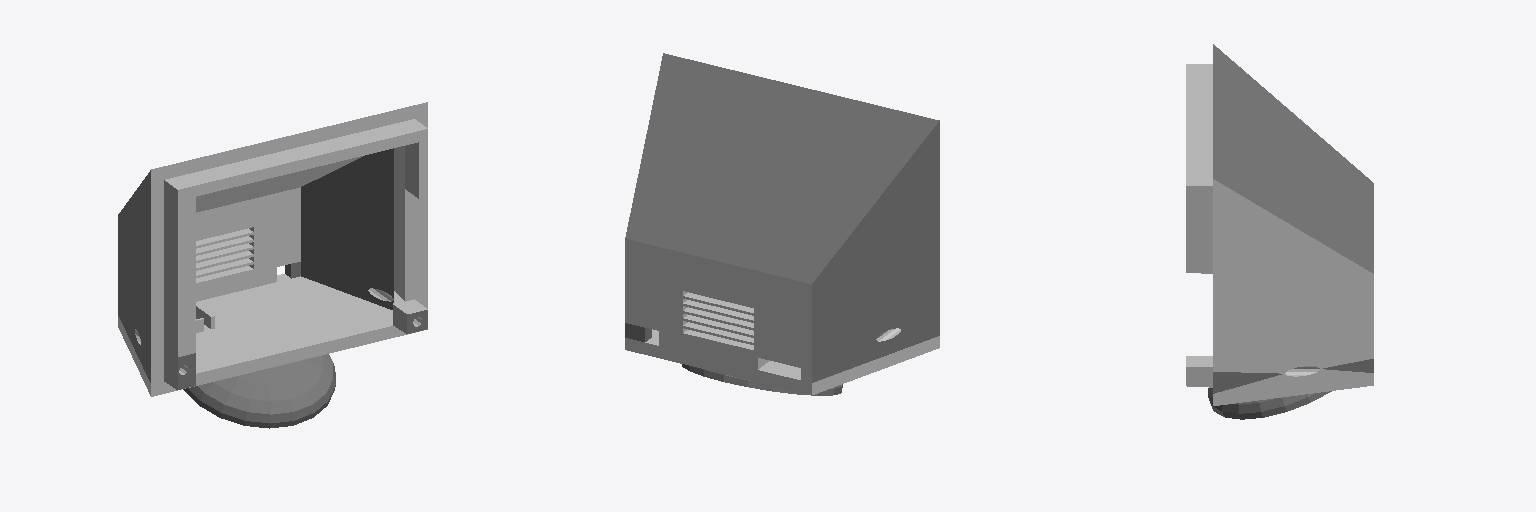
Rendered from TV_BACK.obj.
3 renders of one model, left to right at view 1: azimuth 30°, elevation 25°; view 2: azimuth 150°, elevation 25°; view 3: azimuth 270°, elevation 25°, orthographic.
Parts seen in each view (by area): view 1: pasted__polySurface5 group, pSphere2; view 2: pasted__polySurface5 group, pSphere2; view 3: pasted__polySurface5 group, pSphere2.
Part boxes in pixels (left/top/right/bottom): pasted__polySurface5 group: left=118, top=102, right=427, bottom=396; pSphere2: left=183, top=354, right=335, bottom=428; pasted__polySurface5 group: left=625, top=53, right=939, bottom=394; pSphere2: left=682, top=364, right=842, bottom=395; pasted__polySurface5 group: left=1186, top=44, right=1373, bottom=405; pSphere2: left=1208, top=388, right=1331, bottom=419.
Size of the model in its own units: 117 by 117 by 69.